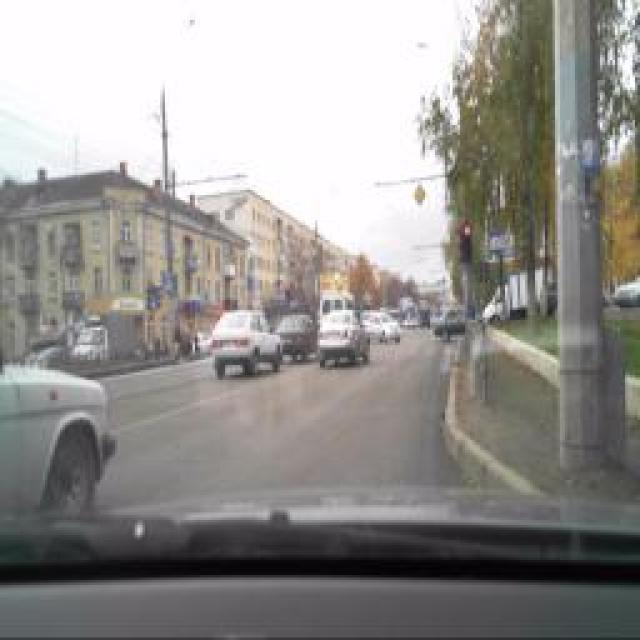sign: (411, 184, 429, 206)
